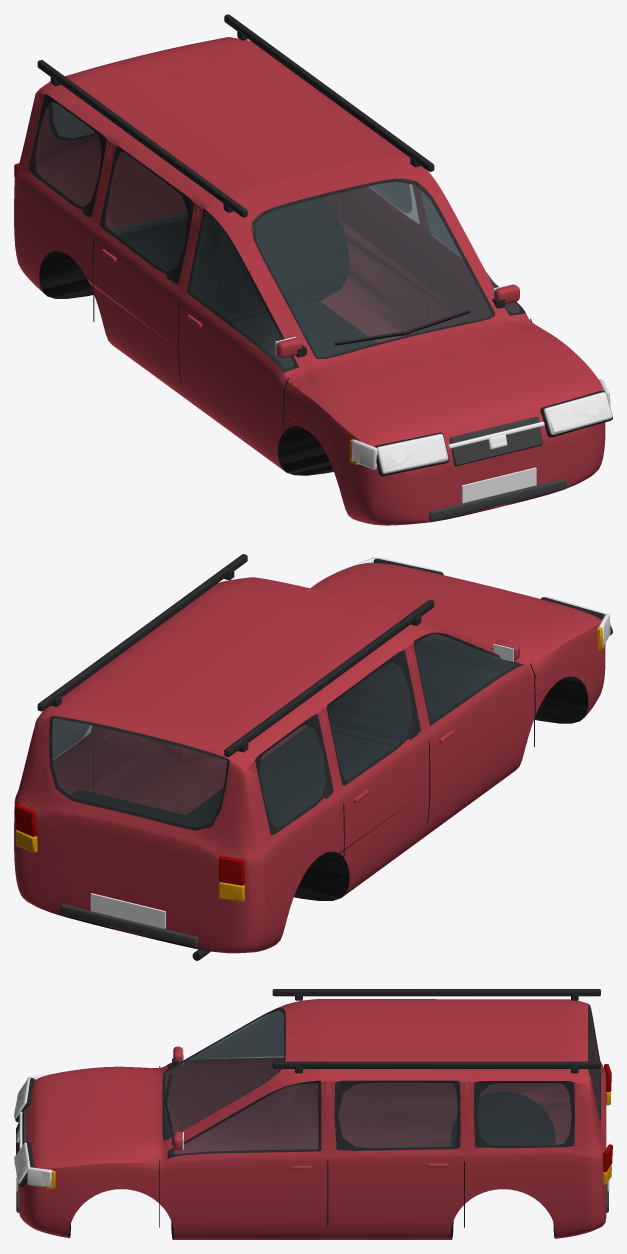
File: largus.glb
The picture shows the model from 3 angles, top to bottom: view 1: azimuth 30°, elevation 25°; view 2: azimuth 150°, elevation 25°; view 3: azimuth 270°, elevation 25°; orthographic projection. The views are drawn at different scales.
Parts seen in each view (by area): view 1: LOD_hi, LOD0; view 2: LOD_hi, LOD0; view 3: LOD_hi, LOD0.
Part boxes in pixels (x1,y1,x2,y2): LOD_hi: [14, 14, 612, 525]; LOD0: [14, 31, 607, 518]; LOD_hi: [14, 554, 612, 960]; LOD0: [16, 557, 612, 960]; LOD_hi: [14, 989, 612, 1239]; LOD0: [14, 992, 612, 1239].
Size of what is drawn, in the model's own units: 1.79 by 1.49 by 4.56.
